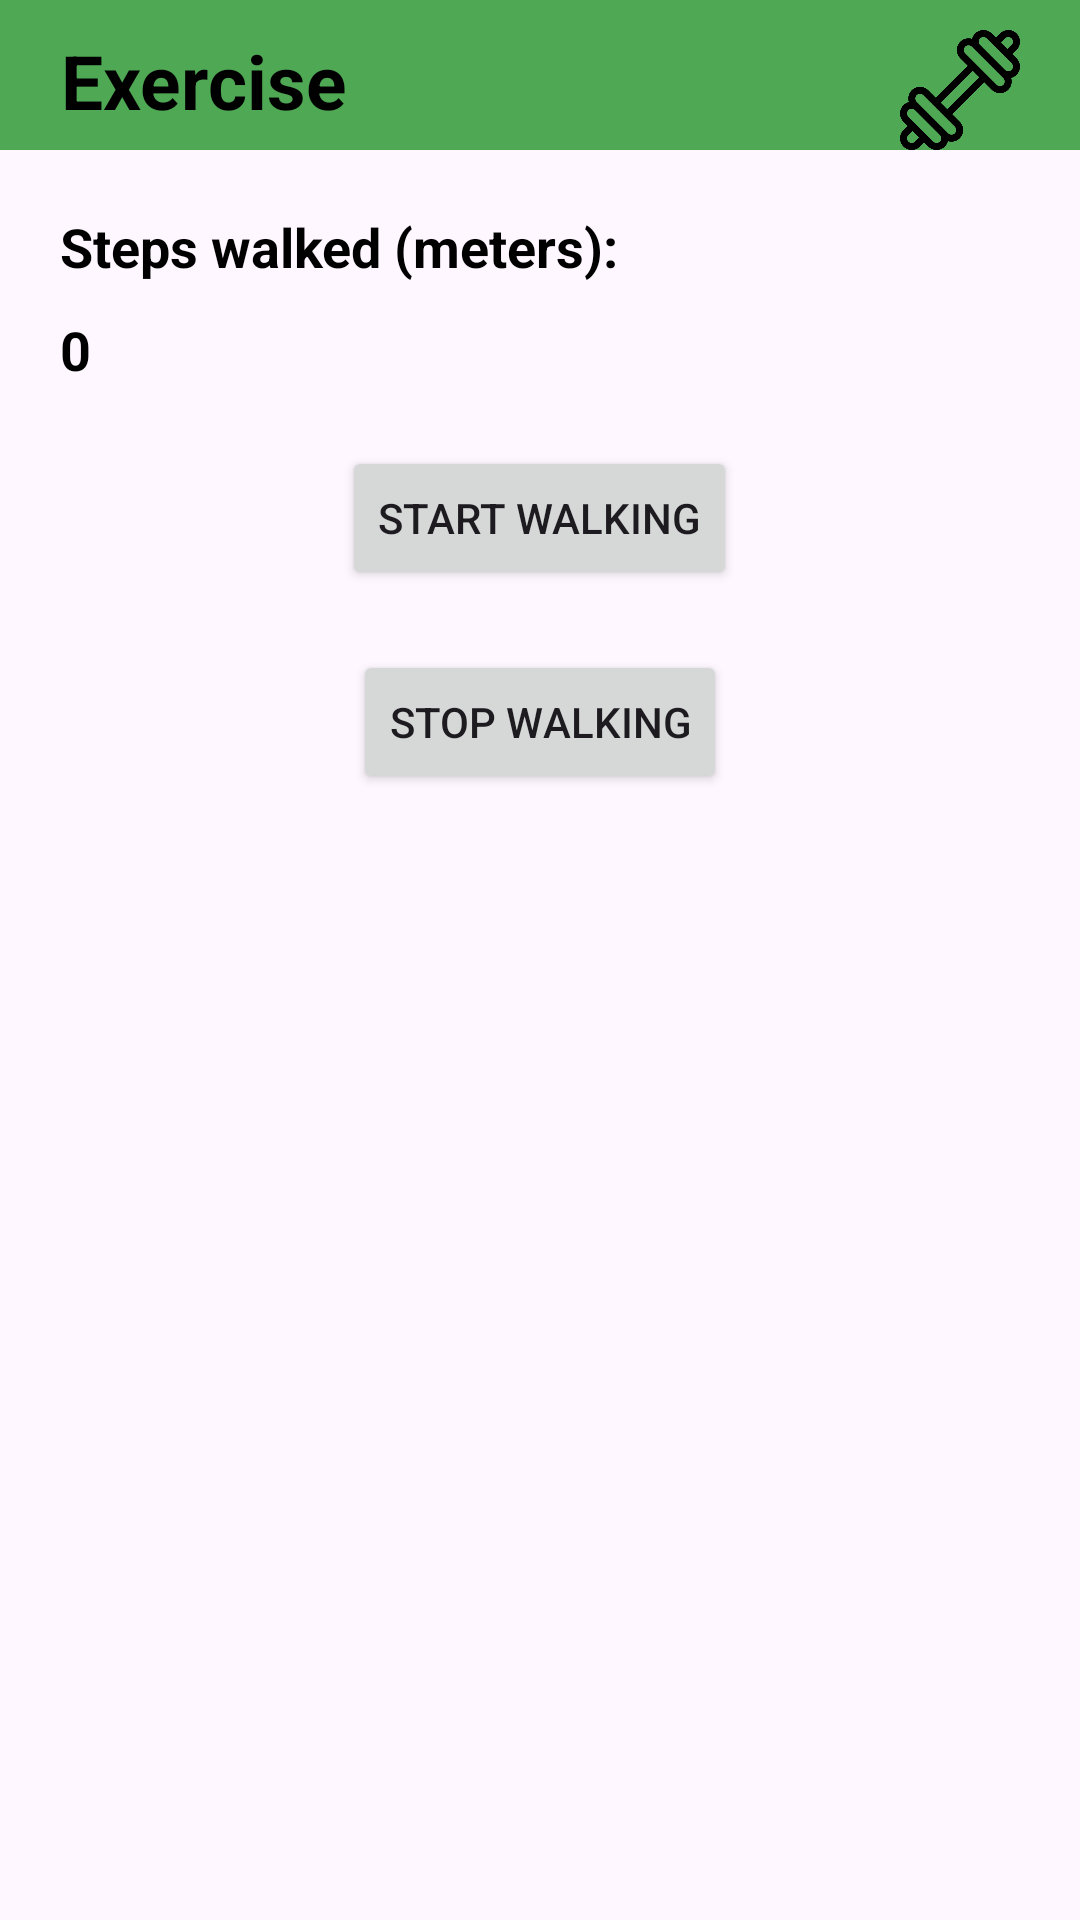

Locate icon controls on the screen. Image size 1080×1920, boxes as (x1, y1, x2, y2).
dumbbell: (900, 30, 1020, 150)
